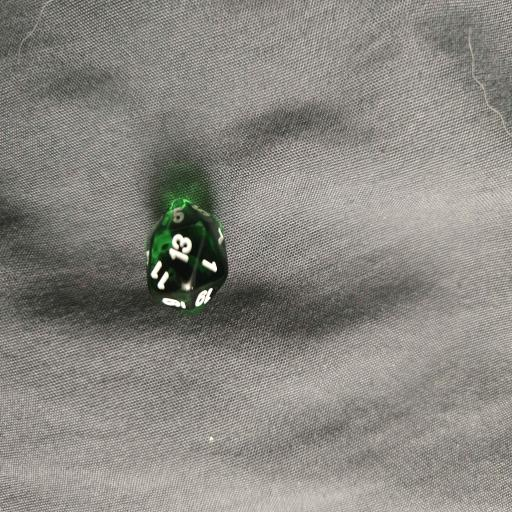twenty sided dice: (146, 198, 228, 316)
